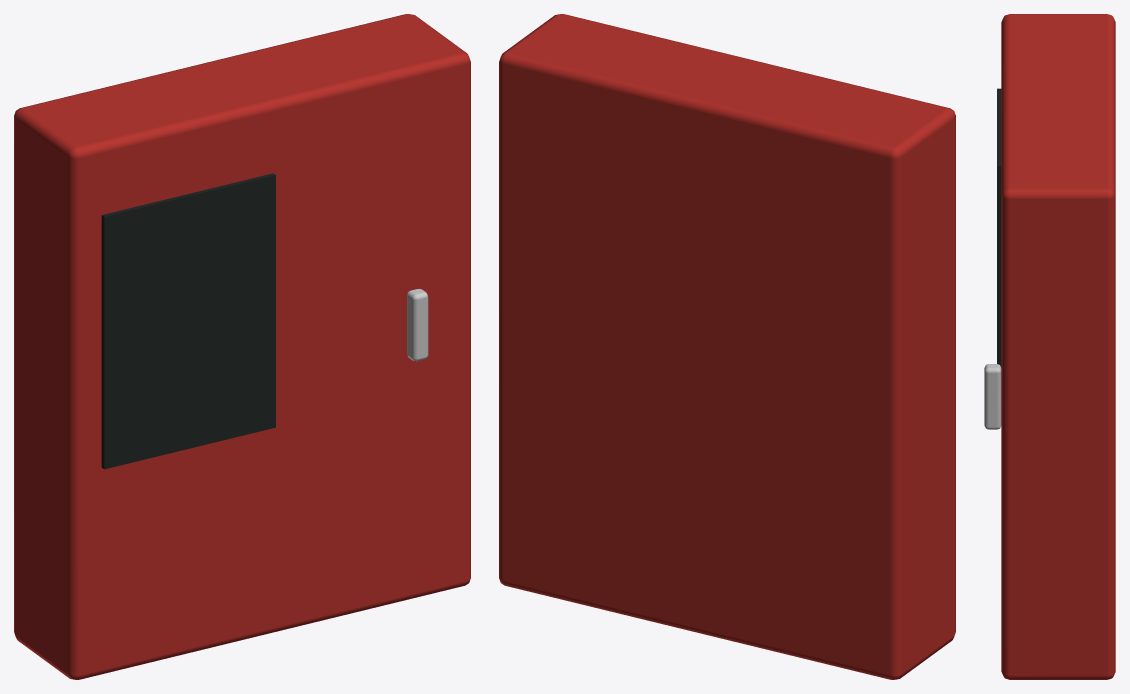
File: fire_cabinet.glb
3 renders of one model, left to right at view 1: azimuth 30°, elevation 25°; view 2: azimuth 150°, elevation 25°; view 3: azimuth 270°, elevation 25°, orthographic. The views are drawn at different scales.
Parts seen in each view (by area): view 1: fire_cabinet; view 2: fire_cabinet; view 3: fire_cabinet.
Boxes of the visible parts, x1,y1,x2,y2 form: fire_cabinet: (14,14,470,679); fire_cabinet: (499,14,955,679); fire_cabinet: (984,14,1115,679).
Bounding box in the file's own units: 0.75 × 0.95 × 0.23.
